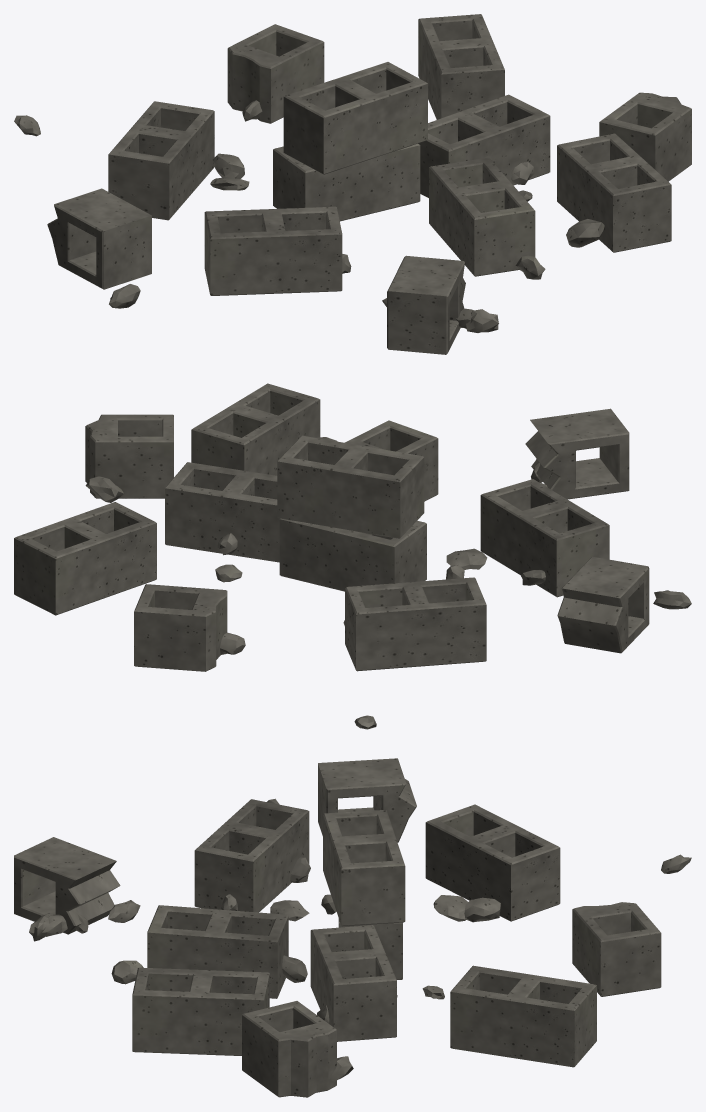
Rendered from broken-cinder-blocks.glb.
3 views of the same model, one above another, from view 1: azimuth 30°, elevation 25°; view 2: azimuth 150°, elevation 25°; view 3: azimuth 270°, elevation 25° (orthographic).
Visible parts, largest first — view 1: Broken_Cinder_Blocks; view 2: Broken_Cinder_Blocks; view 3: Broken_Cinder_Blocks.
Part boxes in pixels (<box>): Broken_Cinder_Blocks: <box>14,14,691,354</box>; Broken_Cinder_Blocks: <box>14,383,691,729</box>; Broken_Cinder_Blocks: <box>14,758,691,1097</box>.
Bounding box in the file's own units: 1.99 × 0.379 × 2.
1 material, 1 textured.
